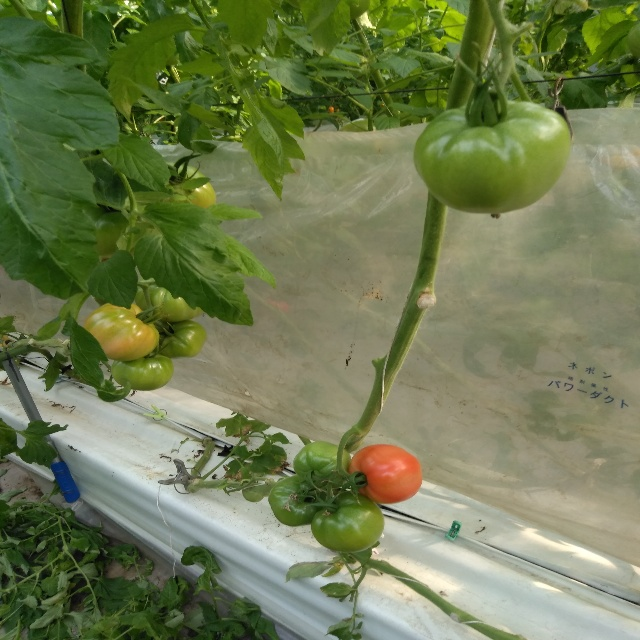b_green: (413, 98, 571, 214), (310, 490, 385, 553), (268, 475, 338, 527), (135, 278, 205, 322), (294, 441, 352, 489), (111, 351, 174, 392), (152, 319, 207, 359)
b_half_ripened: (83, 301, 160, 361), (348, 444, 423, 504)
